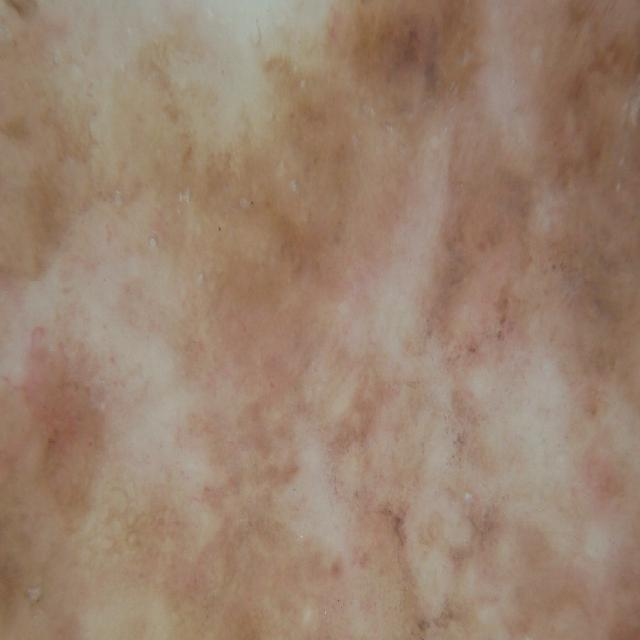Melanoma: (0, 41, 640, 640)
